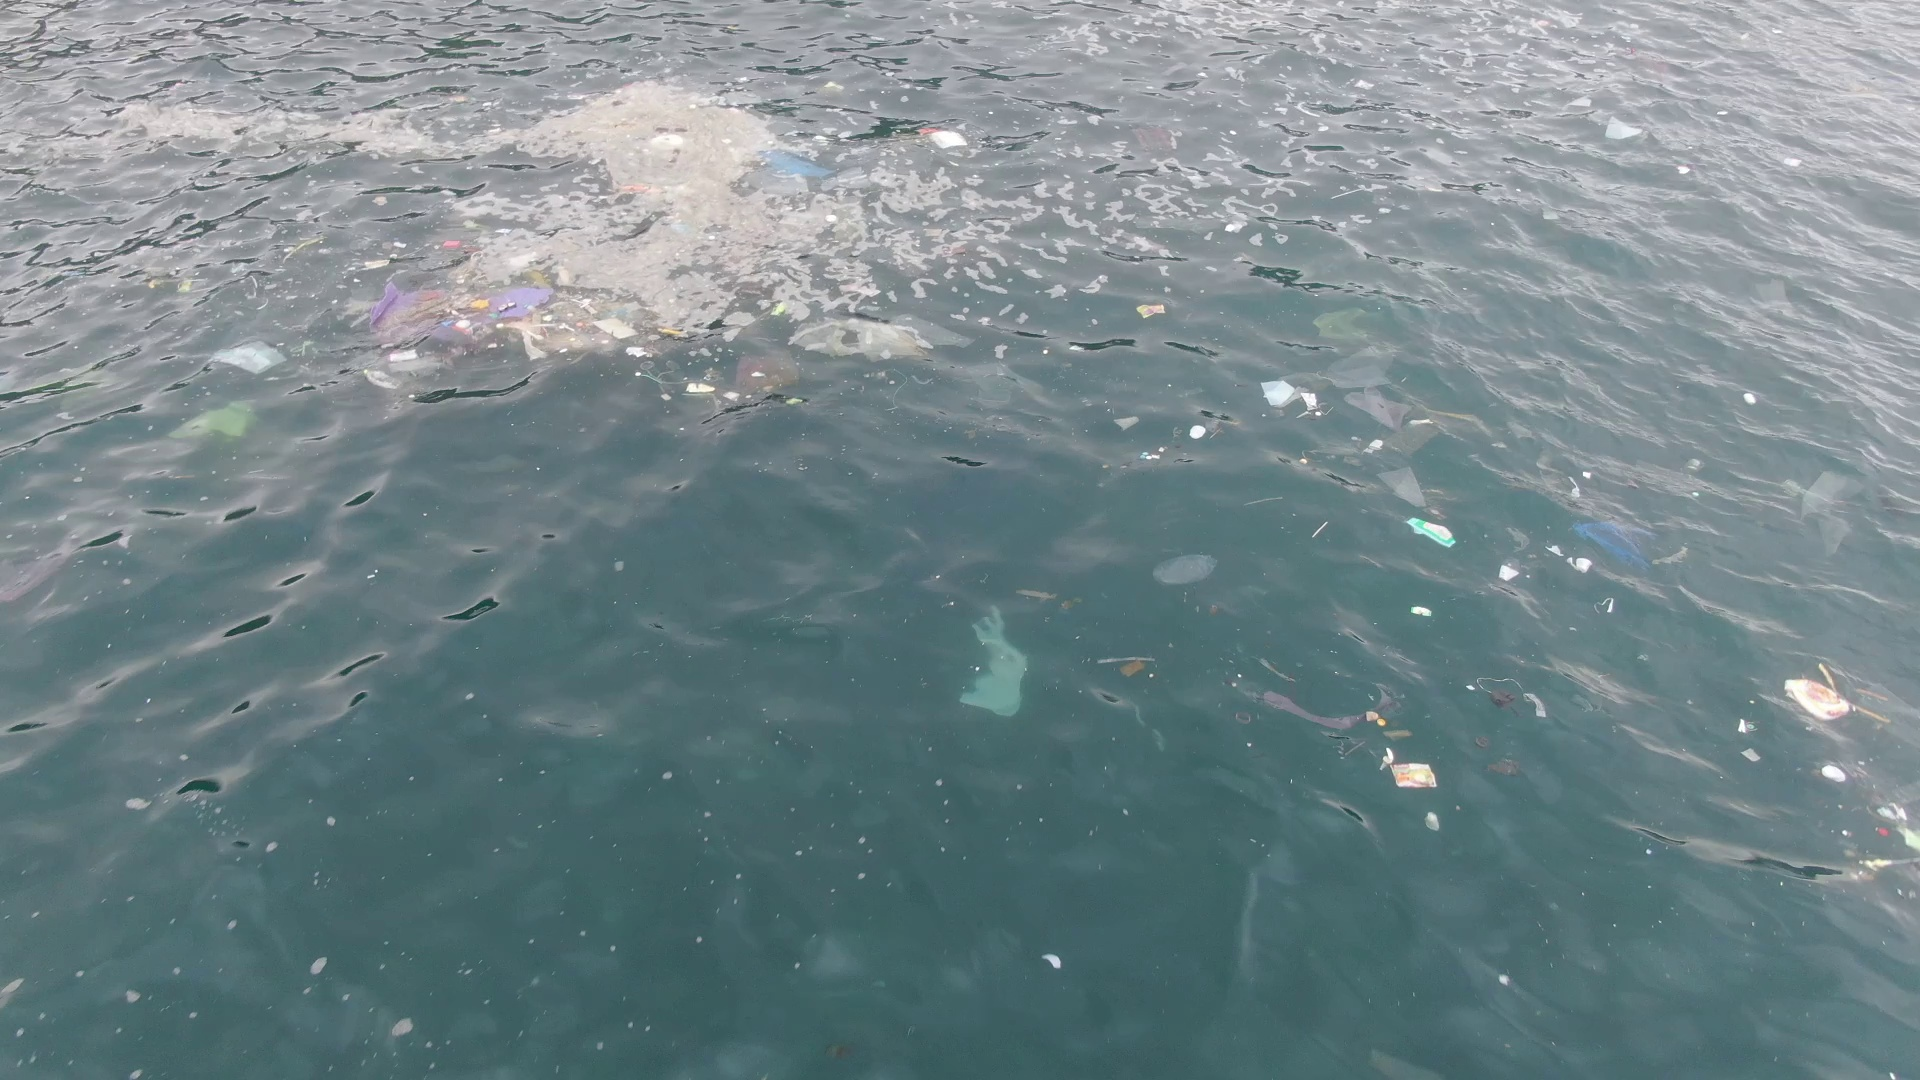garbage: (345, 243, 687, 360), (1234, 680, 1402, 740), (636, 355, 802, 407), (790, 316, 975, 357), (968, 607, 1027, 720), (1785, 659, 1892, 721), (1545, 517, 1644, 572), (1466, 676, 1549, 719), (761, 152, 833, 193), (173, 402, 255, 438), (1261, 378, 1328, 419), (212, 342, 287, 376), (1382, 749, 1433, 790), (1155, 554, 1217, 585), (1408, 513, 1458, 551), (914, 124, 968, 154), (1104, 651, 1156, 679), (1606, 115, 1644, 138), (1874, 800, 1905, 825), (1569, 471, 1592, 497), (650, 132, 684, 148), (1490, 758, 1520, 775), (621, 185, 665, 195), (1822, 765, 1845, 785), (1135, 305, 1166, 318), (1139, 446, 1168, 459), (1735, 719, 1759, 735), (1499, 564, 1519, 582), (1741, 746, 1760, 764), (1594, 597, 1614, 615), (1188, 423, 1207, 439), (771, 302, 787, 316), (1411, 607, 1432, 617), (1743, 392, 1756, 407), (1473, 738, 1491, 749), (1874, 825, 1888, 837)
